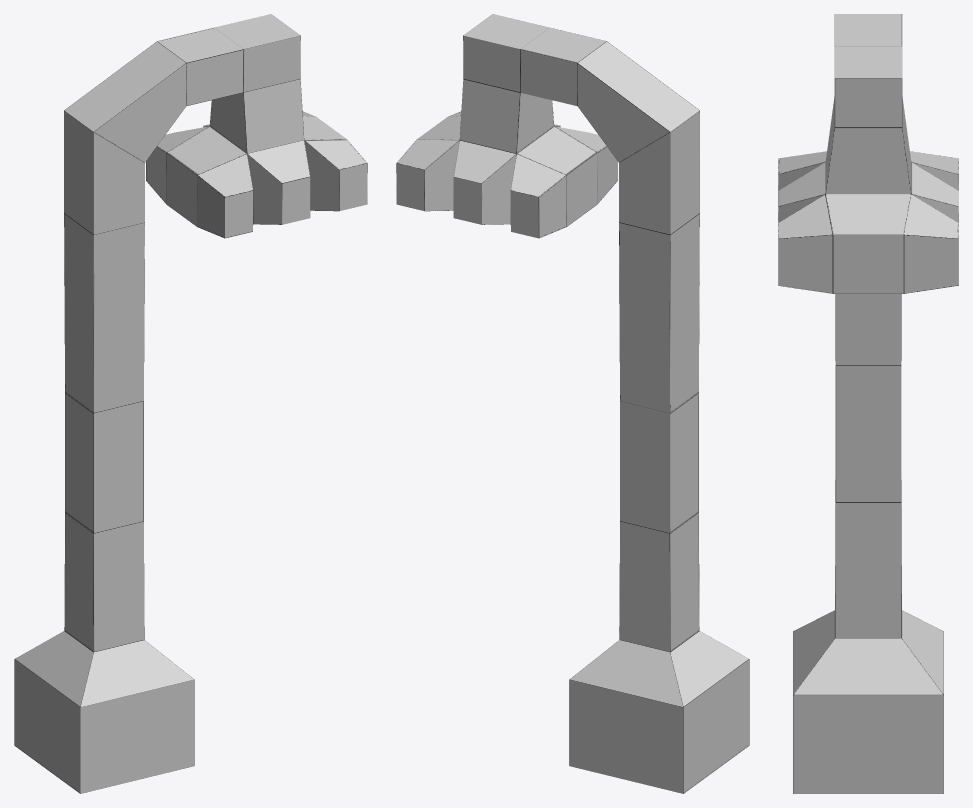
File: light post.obj
3 views of the same model, side by side, from view 1: azimuth 30°, elevation 25°; view 2: azimuth 150°, elevation 25°; view 3: azimuth 270°, elevation 25° (orthographic). The views are drawn at different scales.
Visible parts, largest first — view 1: Cube; view 2: Cube; view 3: Cube.
Boxes of the visible parts, x1,y1,x2,y2 form: Cube: (14,14,367,793); Cube: (396,14,749,793); Cube: (778,14,958,793).
Size of the model in its own units: 4.98 by 11.5 by 2.39.
1 material, 1 textured.
